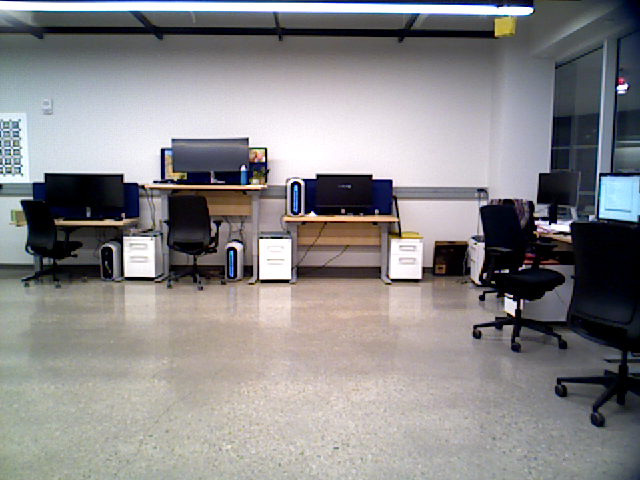painting4: (1, 114, 32, 181)
